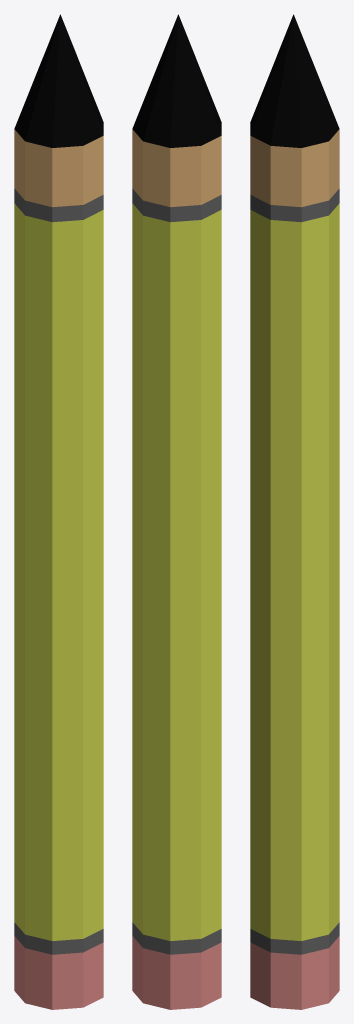
The model's file is lapis.fbx.
3 renders of one model, left to right at view 1: azimuth 90°, elevation 25°; view 2: azimuth 210°, elevation 25°; view 3: azimuth 270°, elevation 25°, orthographic.
Parts seen in each view (by area): view 1: Cylinder, Cylinder.005, Cylinder.004, Cylinder.002, Cylinder.003, Cylinder.001; view 2: Cylinder, Cylinder.005, Cylinder.004, Cylinder.002, Cylinder.003, Cylinder.001; view 3: Cylinder, Cylinder.005, Cylinder.004, Cylinder.002, Cylinder.003, Cylinder.001.
Boxes of the visible parts, bbox=[...] form: Cylinder: bbox=[14, 203, 103, 940]; Cylinder.005: bbox=[14, 14, 103, 147]; Cylinder.004: bbox=[14, 129, 103, 207]; Cylinder.002: bbox=[14, 936, 103, 1009]; Cylinder.003: bbox=[14, 188, 103, 222]; Cylinder.001: bbox=[14, 922, 103, 954]; Cylinder: bbox=[132, 203, 221, 940]; Cylinder.005: bbox=[132, 14, 221, 147]; Cylinder.004: bbox=[132, 129, 221, 207]; Cylinder.002: bbox=[132, 936, 221, 1009]; Cylinder.003: bbox=[132, 188, 221, 222]; Cylinder.001: bbox=[132, 922, 221, 954]; Cylinder: bbox=[250, 203, 339, 940]; Cylinder.005: bbox=[250, 14, 339, 147]; Cylinder.004: bbox=[250, 129, 339, 207]; Cylinder.002: bbox=[250, 936, 339, 1009]; Cylinder.003: bbox=[250, 188, 339, 222]; Cylinder.001: bbox=[250, 922, 339, 954].
Bounding box in the file's own units: 6.69 × 79.47 × 6.59.
